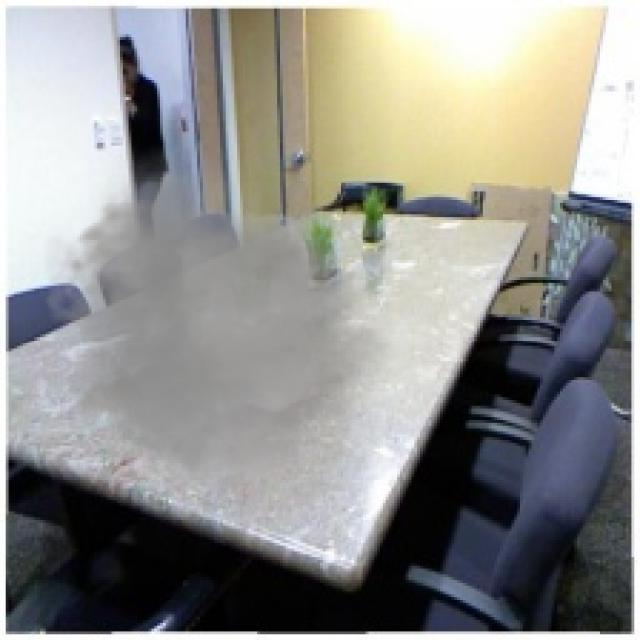smoke: (28, 143, 406, 503)
